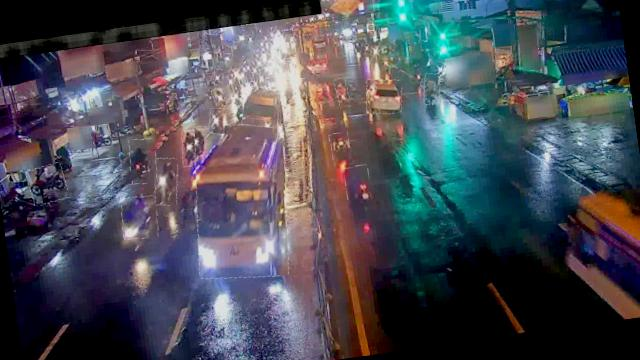Bike: (119, 194, 160, 240), (26, 162, 68, 206), (126, 137, 159, 185), (150, 156, 181, 206), (342, 165, 372, 203), (178, 128, 204, 166), (330, 132, 352, 166), (422, 72, 444, 105), (207, 107, 227, 135), (334, 77, 350, 107), (294, 78, 310, 102), (212, 87, 226, 108), (230, 86, 241, 108), (212, 68, 225, 84)
Bus: (182, 117, 300, 285), (240, 84, 284, 131)
Car: (364, 76, 404, 116)
